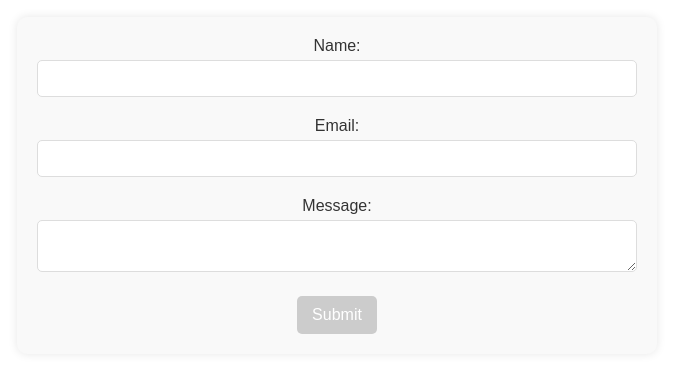
it: ContactForm › should enable submit button when form is valid
In the field with id "name": (337, 78) [37,60,637,97], type "Jane Doe"
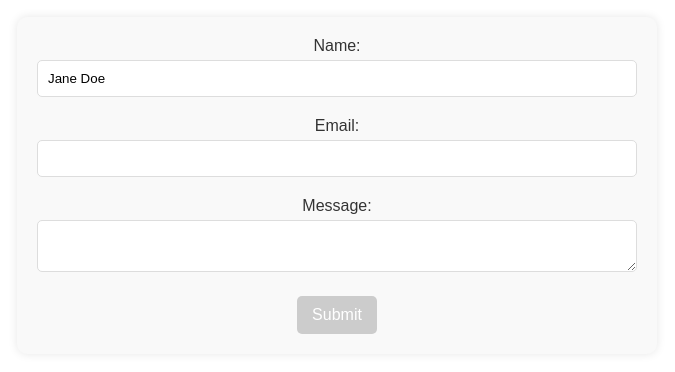
In the field with id "email": (337, 158) [37,140,637,177], type "jane@example.com"
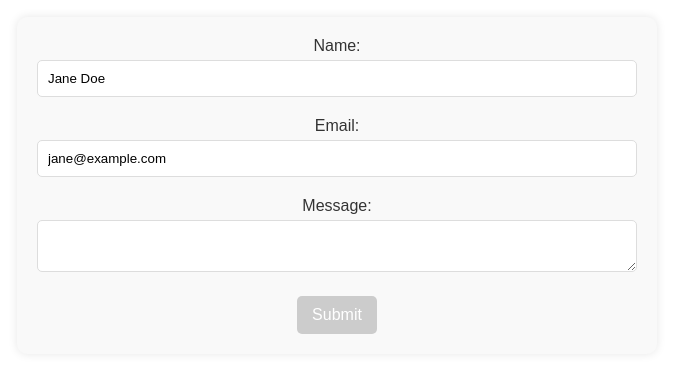
In the text box with id "message": (337, 246) [37,220,637,272], type "Hello"
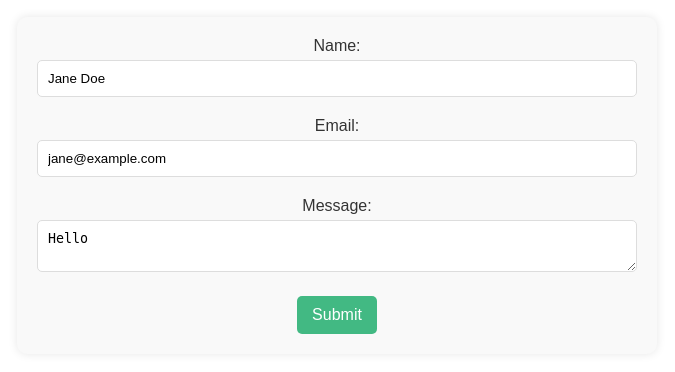
Check: the submit button is enabled, box [297,296,377,334]
